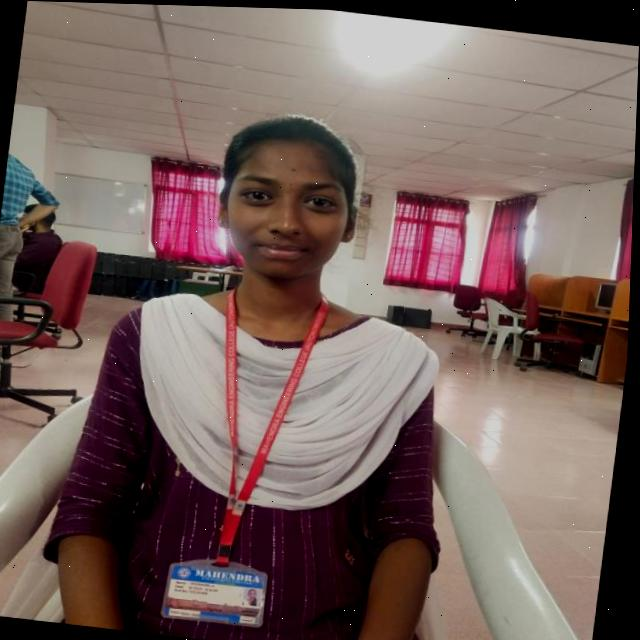id_card: (156, 283, 321, 636)
